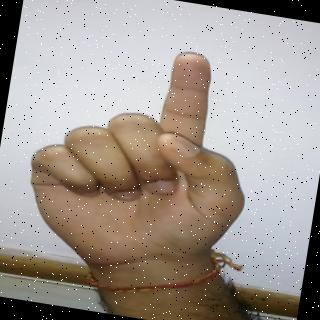I: (24, 18, 266, 282)
